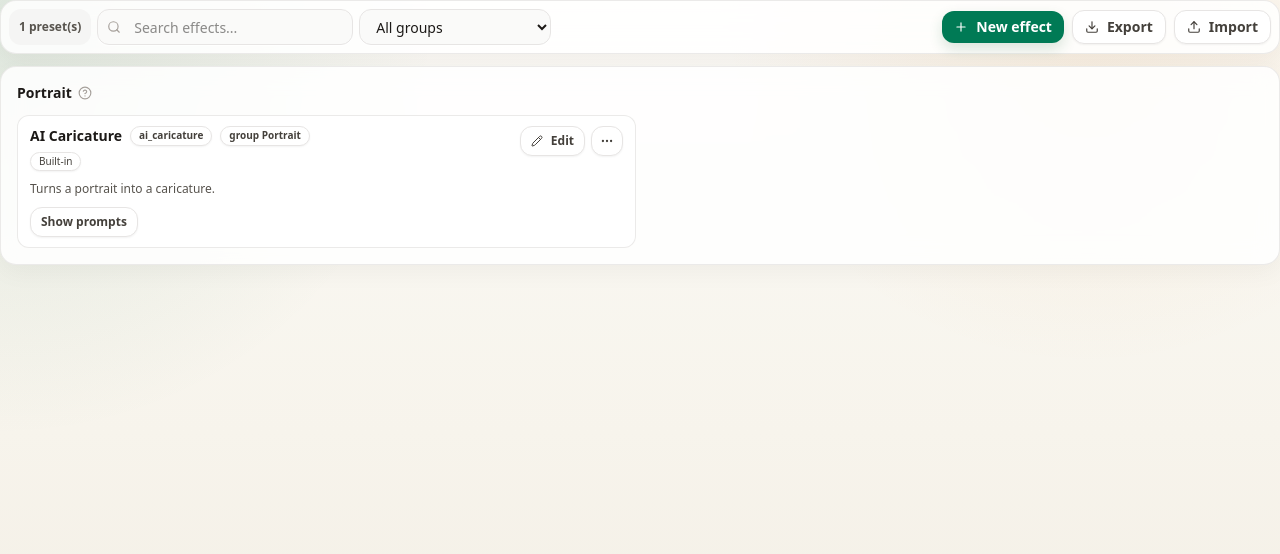
Presets pages › keeps secondary AI effect actions behind a compact action menu
The width and height of the screenshot is (1280, 554).
Expected: the text "AI Caricature" is shown, [30,126,122,146]
Expected: the button with aria-label "Edit AI Caricature" is shown, [520,126,585,156]
Click the button named "More actions for AI Caricature" at (607,141), box [591,126,623,156]
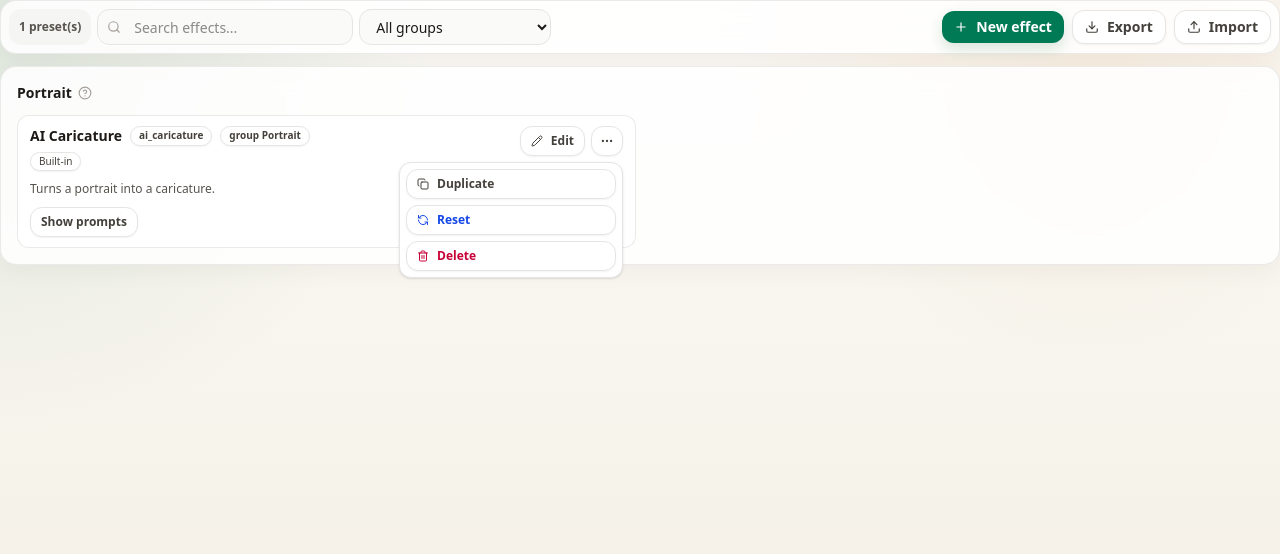
Expected: the button with aria-label "Duplicate AI Caricature" is shown, [406,169,616,199]
Expected: the button with aria-label "Reset AI Caricature" is shown, [406,205,616,235]
Expected: the button with aria-label "Delete AI Caricature" is shown, [406,241,616,271]
